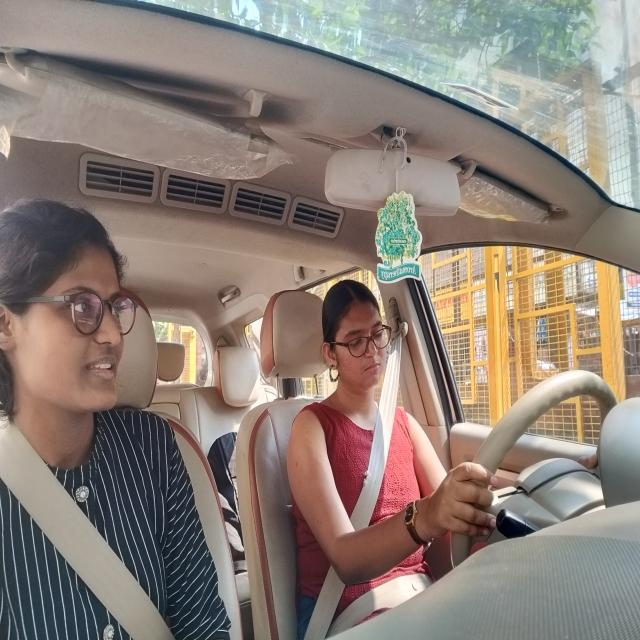drowsy: (323, 275, 390, 385)
person: (2, 211, 137, 420)
